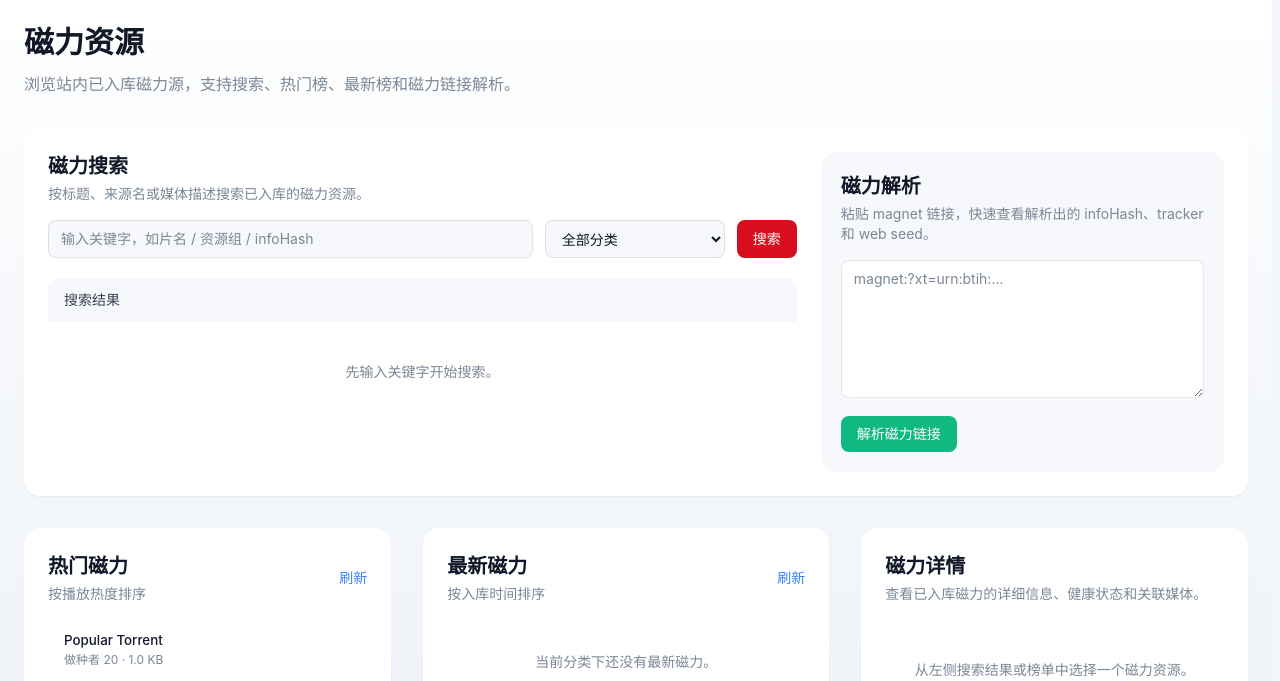
Test: TorrentView › shows an inline error when magnet parsing fails
The width and height of the screenshot is (1280, 681).
In the text box with placeholder "magnet:?xt=urn:btih:...": (1022, 329) [841,260,1204,398], type "magnet:?xt=urn:btih:broken"
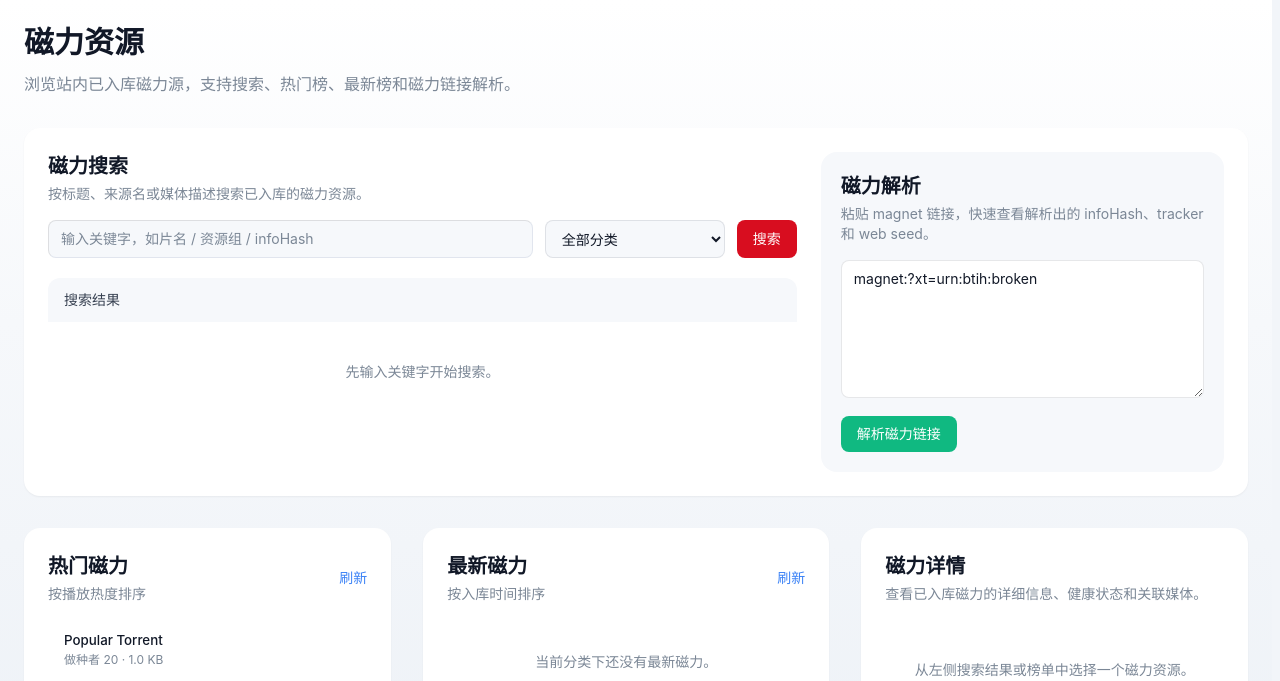
Submit the form "解析磁力链接", box [841,260,1204,452]
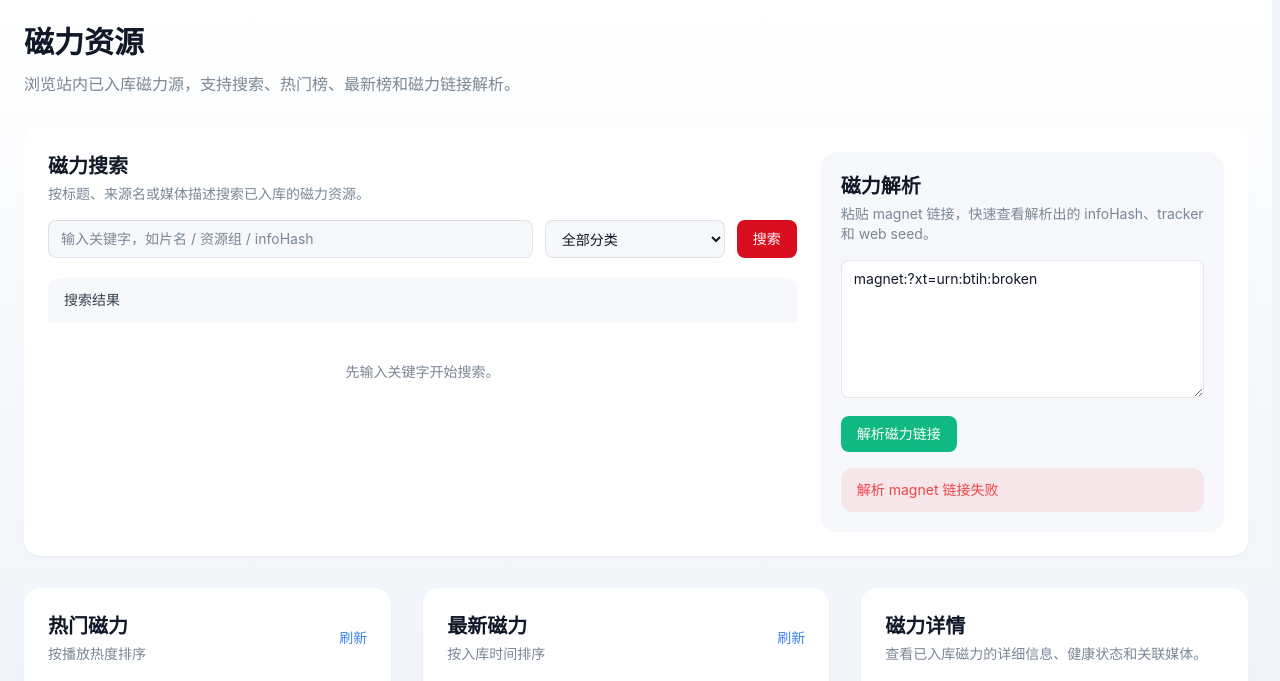
Expected: the text "解析 magnet 链接失败" is shown, [841,468,1204,512]
